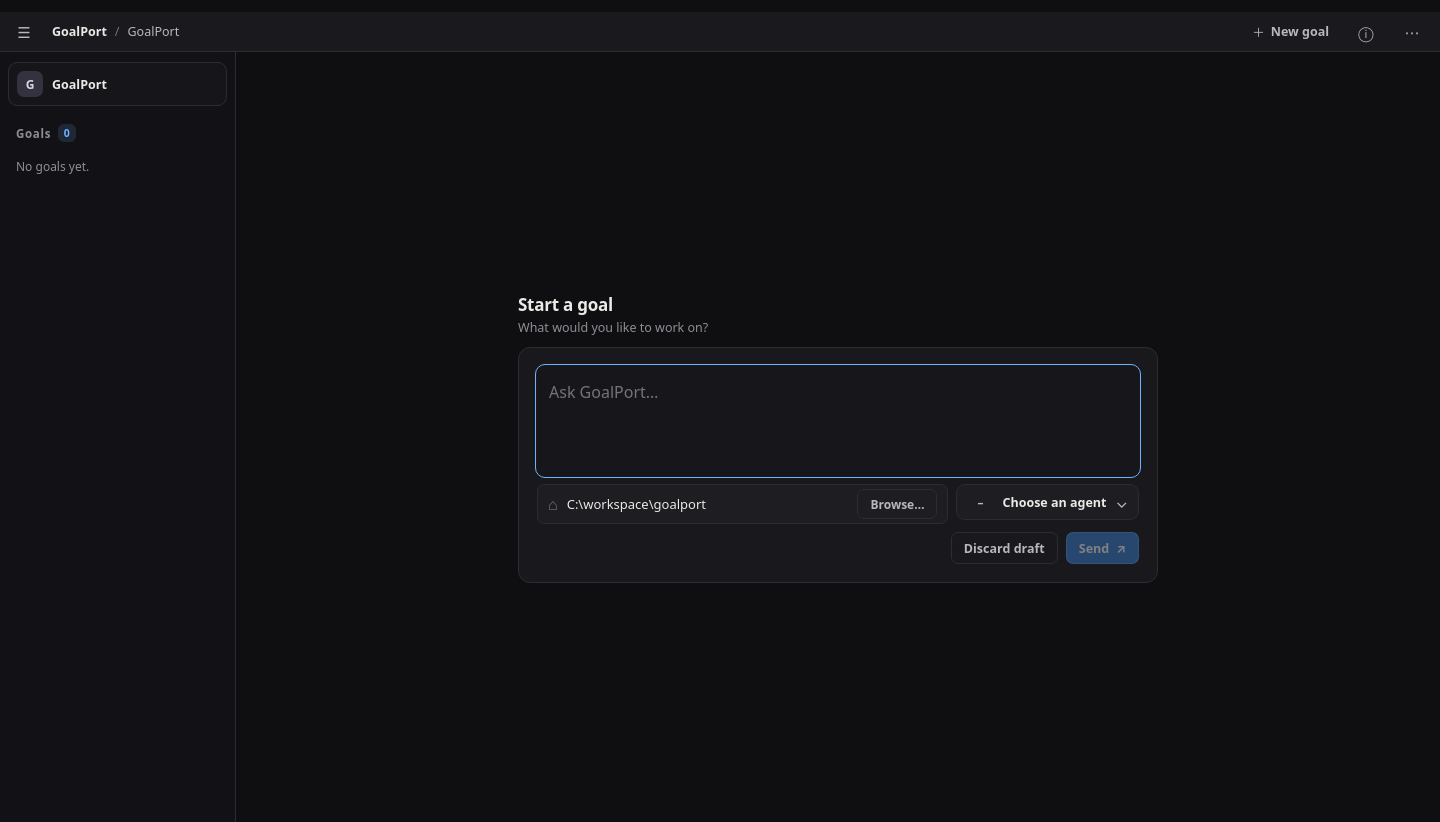
it: empty-state and goal creation (HARD-02/03) › keeps empty-sidebar prose out of the collapsed rail
Expected: the text "No goals yet." is shown, [16, 158, 89, 175]
Step 1. Click the button named "collapse navigation" → {"x": 24, "y": 32}, box [4, 12, 44, 52]
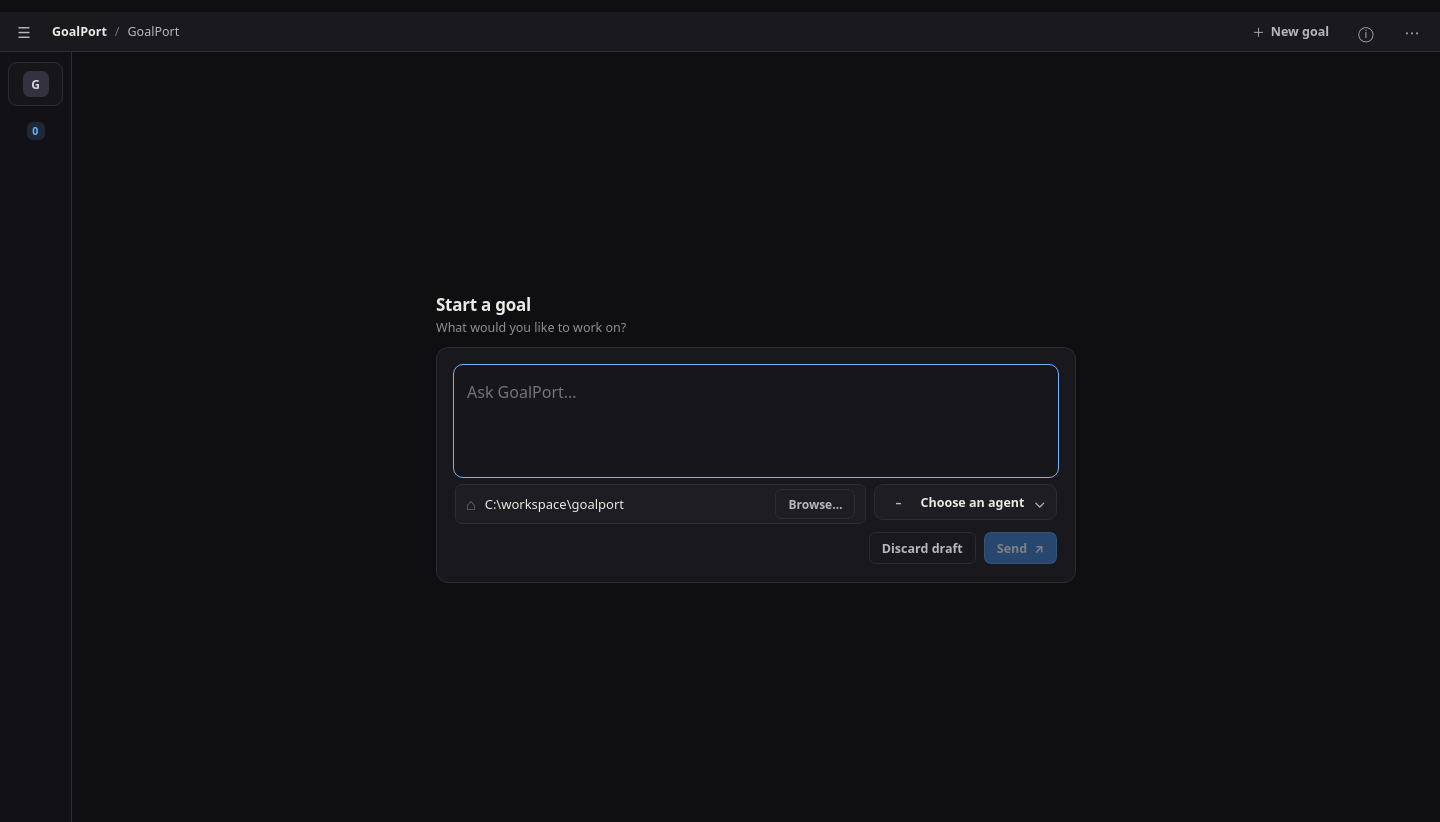
Result: the text with class "nav-empty" is gone
Step 2. Click the button named "expand navigation" → {"x": 24, "y": 32}, box [4, 12, 44, 52]
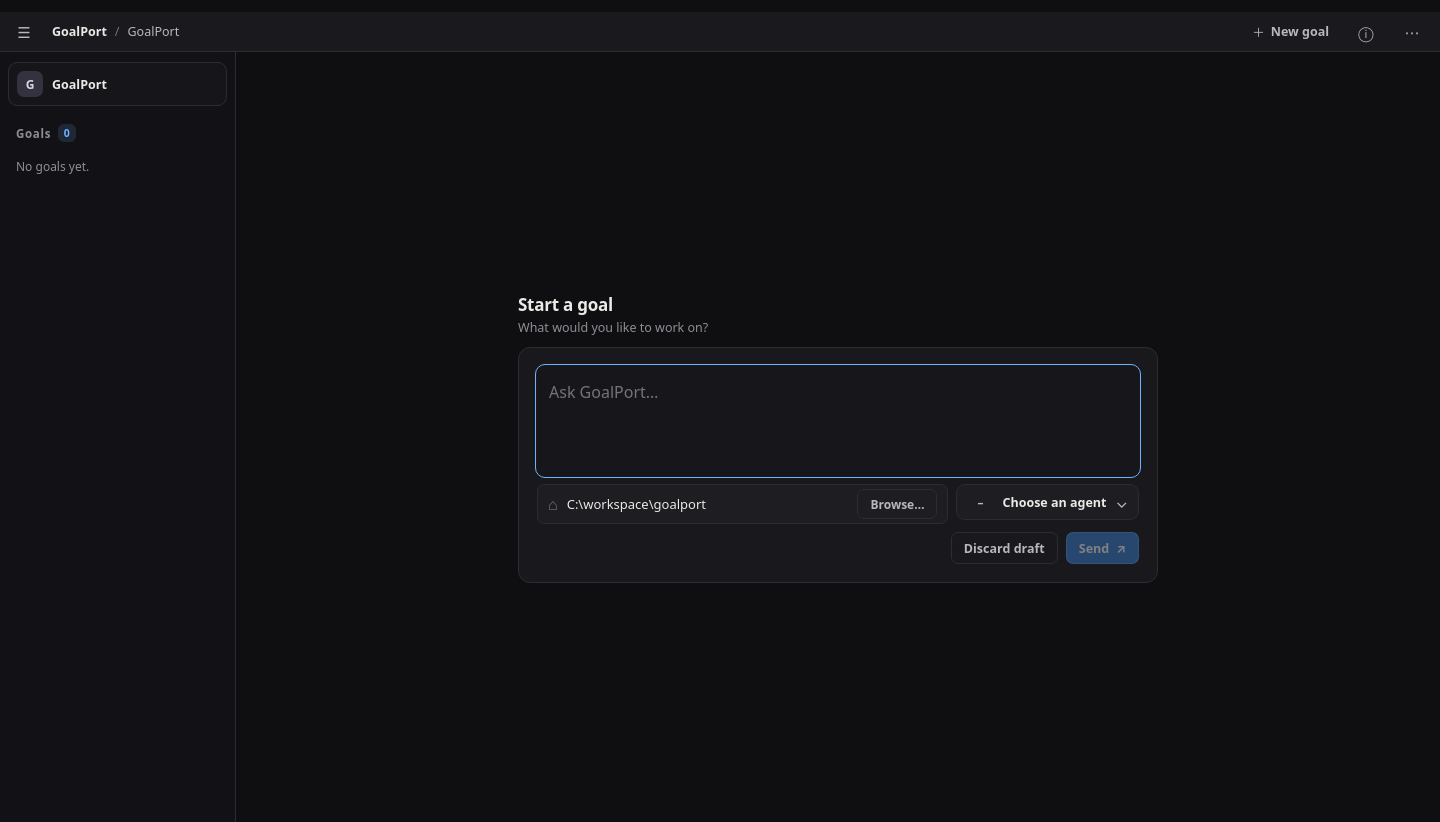
Result: the text "No goals yet." is shown at [16, 158, 89, 175]
